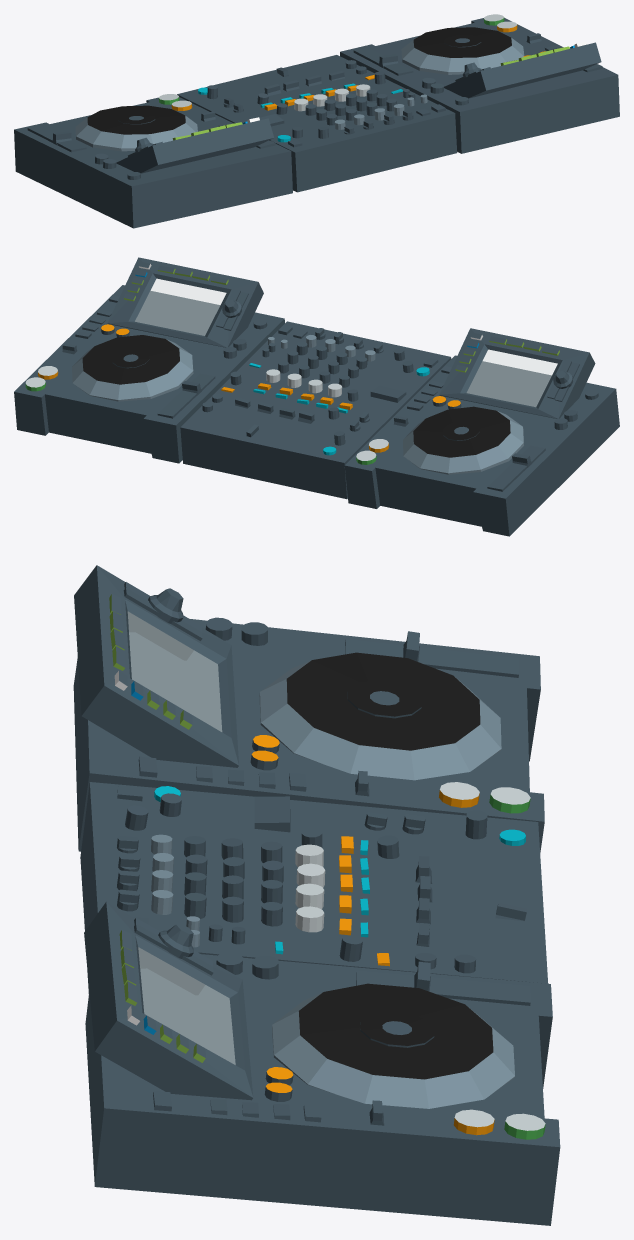
The model's file is Decks.glb.
3 renders of one model, top to bottom at view 1: azimuth 30°, elevation 25°; view 2: azimuth 150°, elevation 25°; view 3: azimuth 270°, elevation 25°, orthographic. The views are drawn at different scales.
Parts seen in each view (by area): view 1: group933813175, group1281425499, group77414760; view 2: group933813175, group1281425499, group77414760; view 3: group1281425499, group933813175, group77414760.
Boxes of the visible parts, x1=… form: group933813175: x1=14, y1=94, x2=292, y2=228; group1281425499: x1=340, y1=14, x2=619, y2=153; group77414760: x1=177, y1=55, x2=457, y2=192; group933813175: x1=344, y1=328, x2=619, y2=536; group1281425499: x1=14, y1=257, x2=284, y2=463; group77414760: x1=180, y1=321, x2=451, y2=499; group1281425499: x1=84, y1=902, x2=560, y2=1225; group933813175: x1=73, y1=565, x2=544, y2=852; group77414760: x1=80, y1=782, x2=548, y2=993.
Bounding box in the file's own units: 1.22 × 0.2522 × 0.5224.
